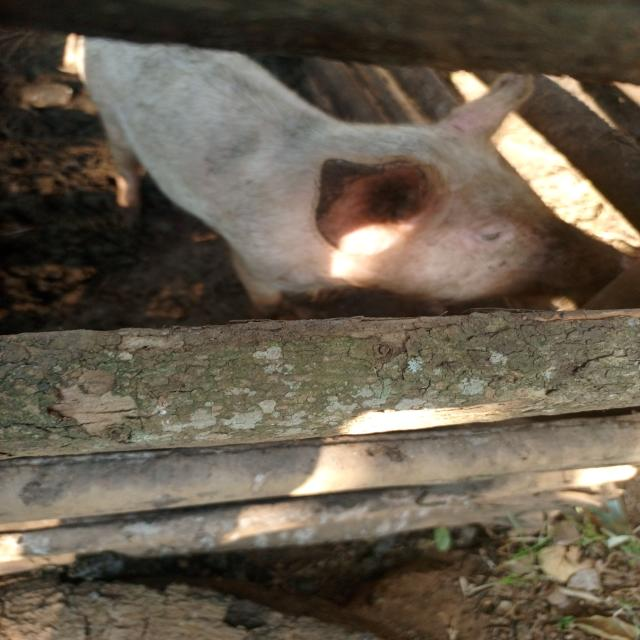pig: (60, 16, 640, 335)
